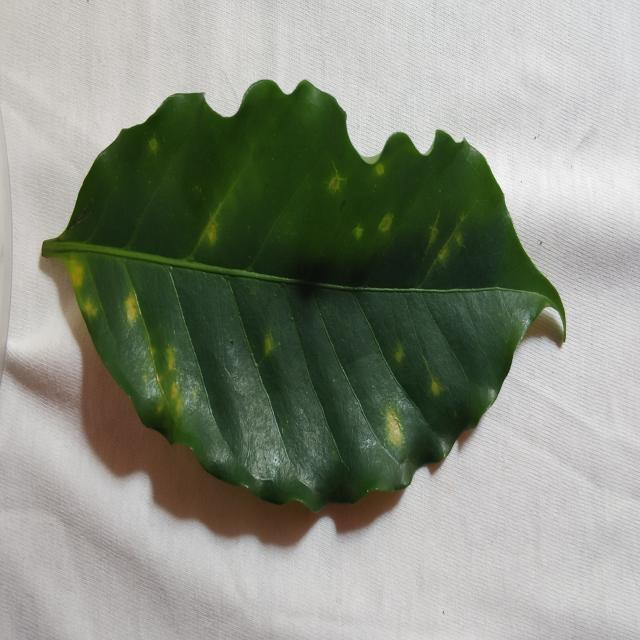Enfermedad-Roya: (40, 80, 567, 515)
